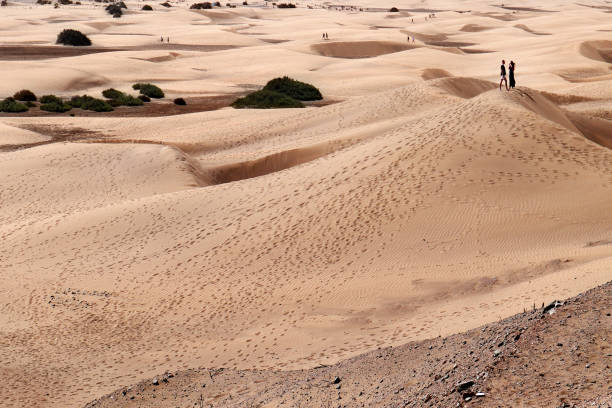human_footprint: (0, 100, 611, 384)
